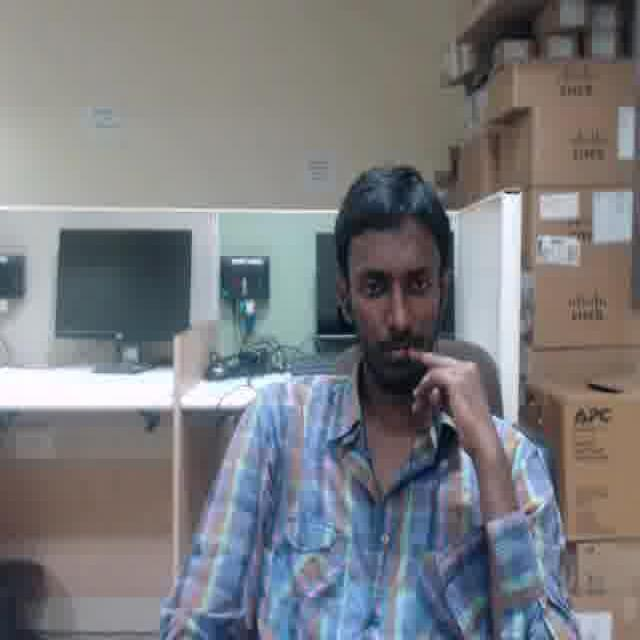Engaged: (349, 228, 439, 383)
